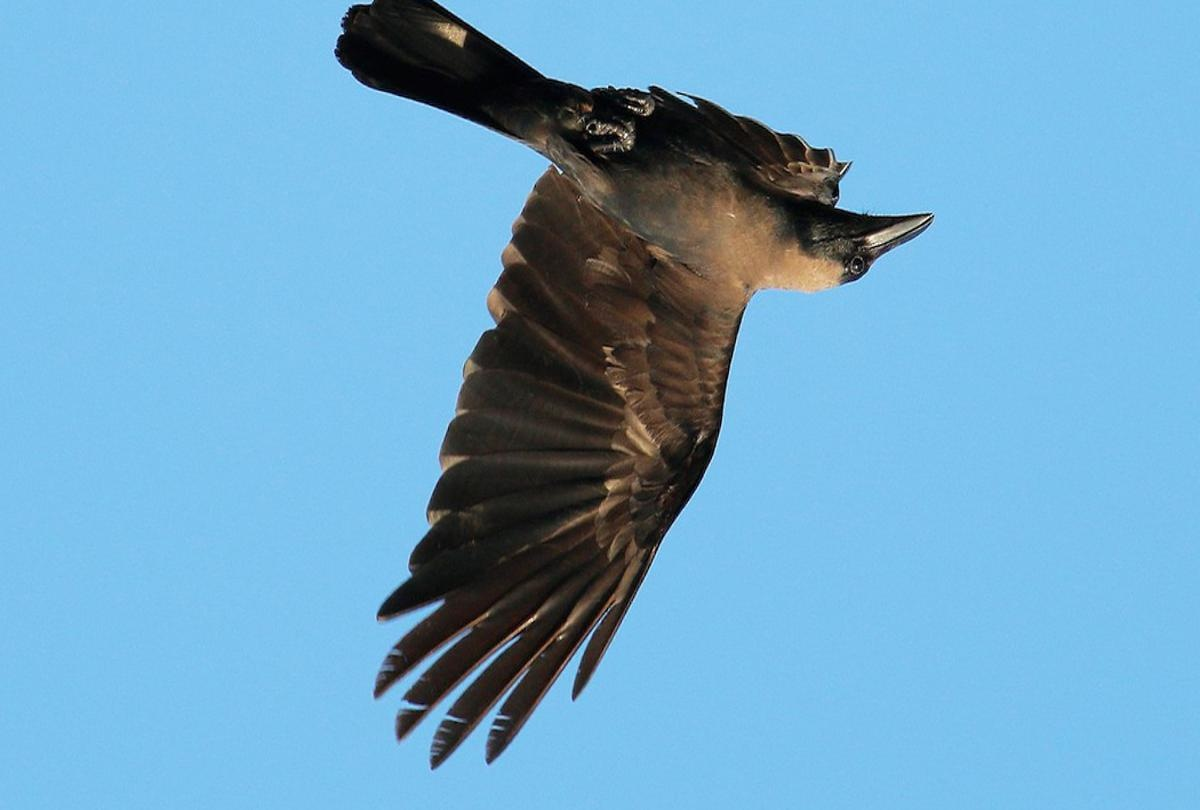crow: (309, 2, 931, 705)
